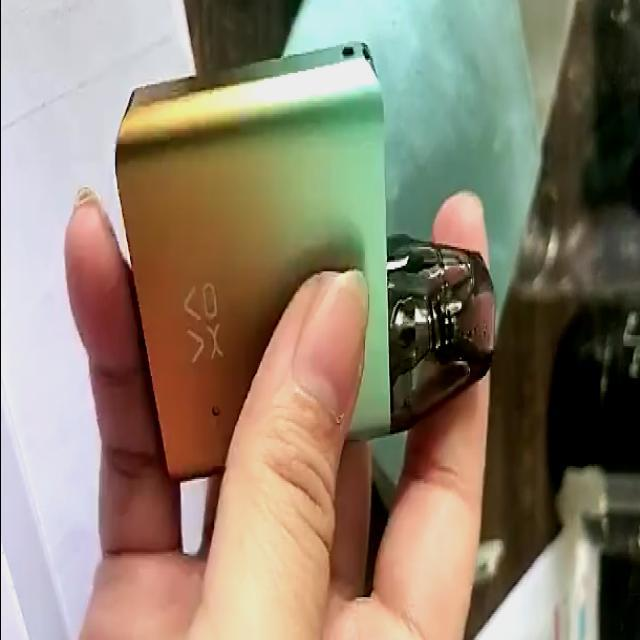Hazard: (114, 43, 497, 483)
